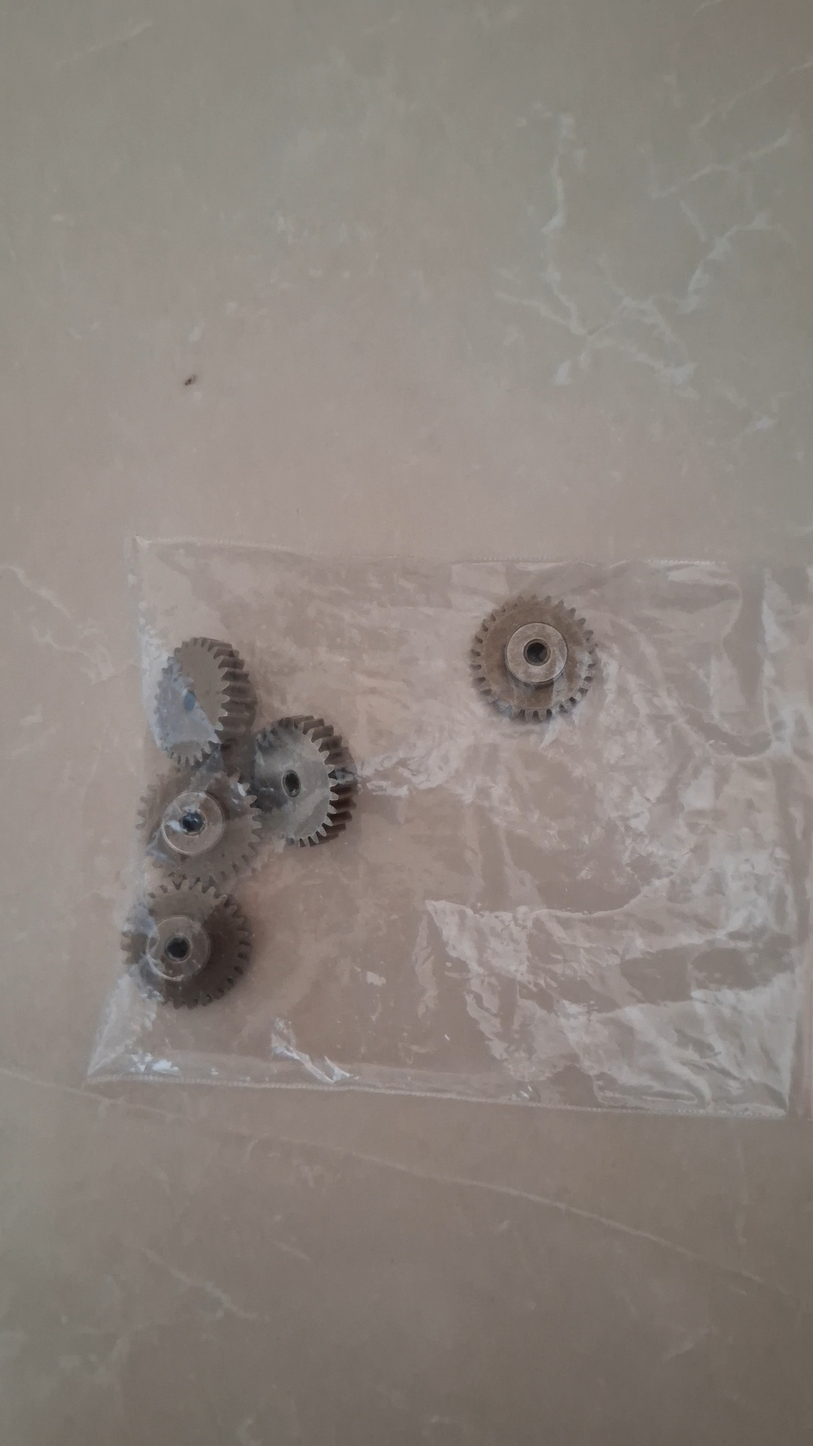spur gear: (122, 880, 251, 1007), (472, 596, 595, 719), (139, 765, 260, 886), (251, 717, 355, 846), (155, 637, 256, 766)
